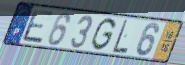3: (70, 14, 93, 49)
6: (135, 21, 160, 57), (48, 11, 71, 46)
E: (21, 8, 56, 46)
G: (90, 17, 117, 52)
L: (111, 18, 130, 55)
